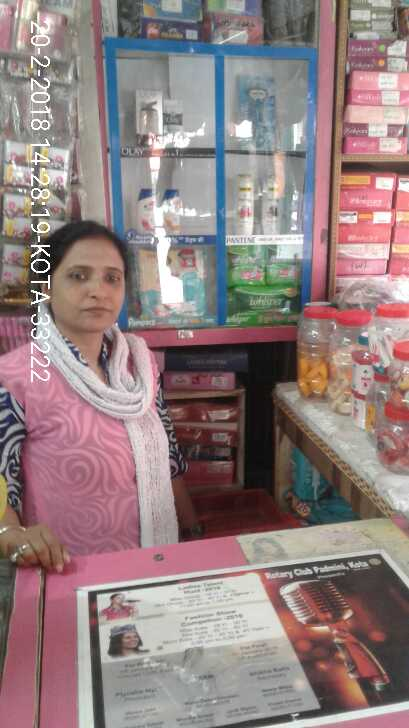venus: (243, 71, 280, 147)
